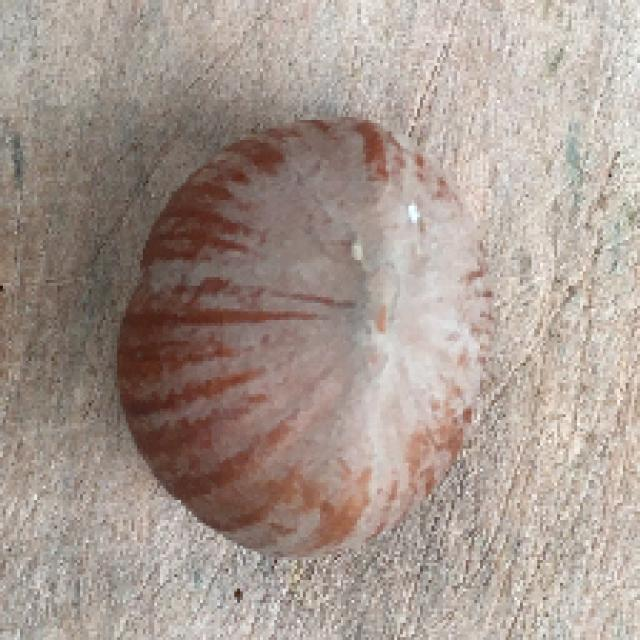qualityHazelnut: (112, 108, 500, 564)
